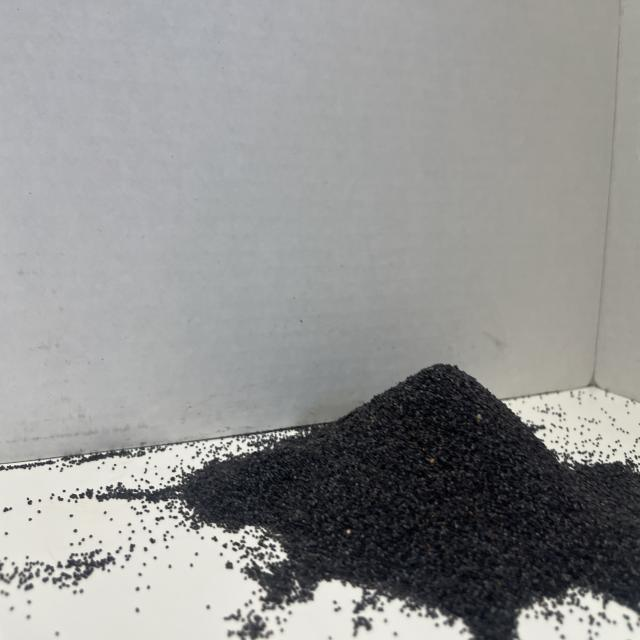Poppy Seeds: (252, 368, 638, 624)
